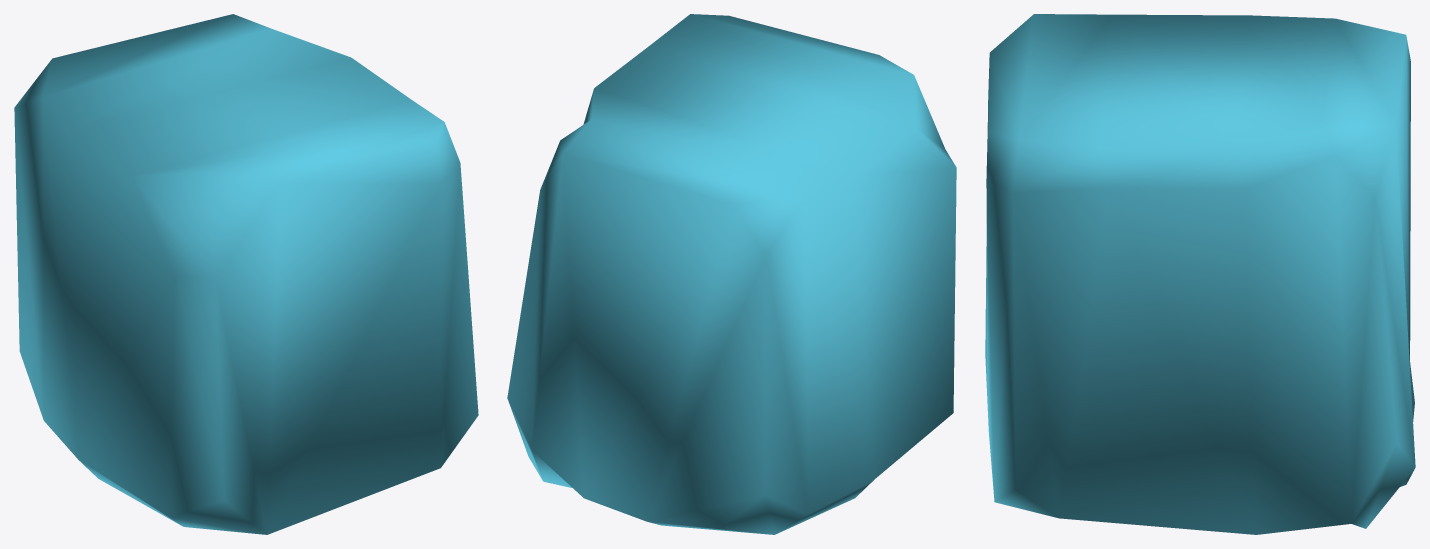
The model's file is big_brick_03.FBX.
3 renders of one model, left to right at view 1: azimuth 30°, elevation 25°; view 2: azimuth 150°, elevation 25°; view 3: azimuth 270°, elevation 25°, orthographic. The views are drawn at different scales.
Visible parts, largest first — view 1: big_brick_03; view 2: big_brick_03; view 3: big_brick_03.
Boxes of the visible parts, <box> form: big_brick_03: <box>14,14,478,534</box>; big_brick_03: <box>507,14,956,534</box>; big_brick_03: <box>985,14,1415,534</box>.
Size of the model in its own units: 29.14 by 32.54 by 31.41.
